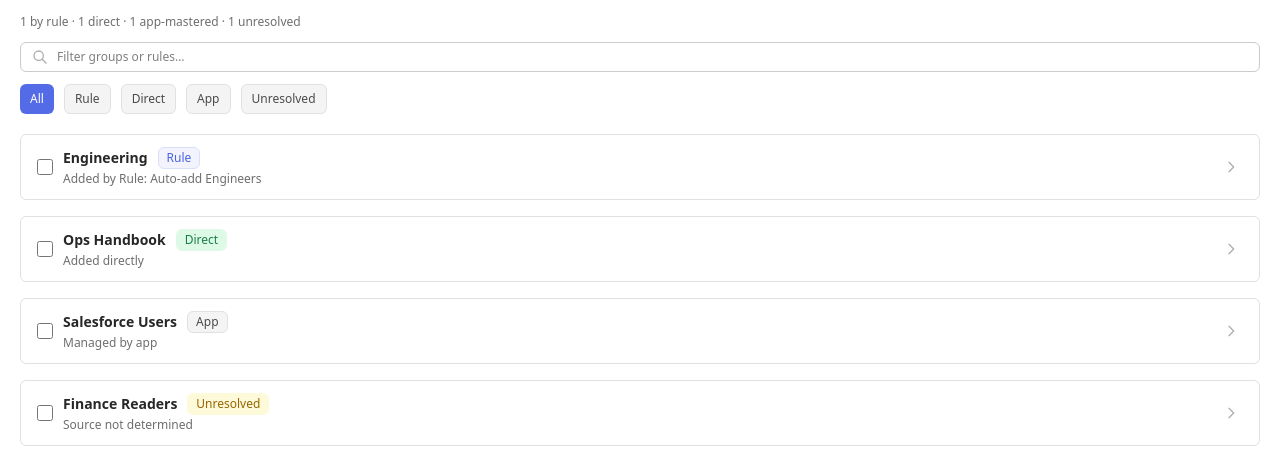
it: GroupMembershipsList — the pane header › offers the way back when a filter matches nothing
In the search field named "Filter group memberships": x=640, y=57 [20,42,1260,72], type "no-such-group"
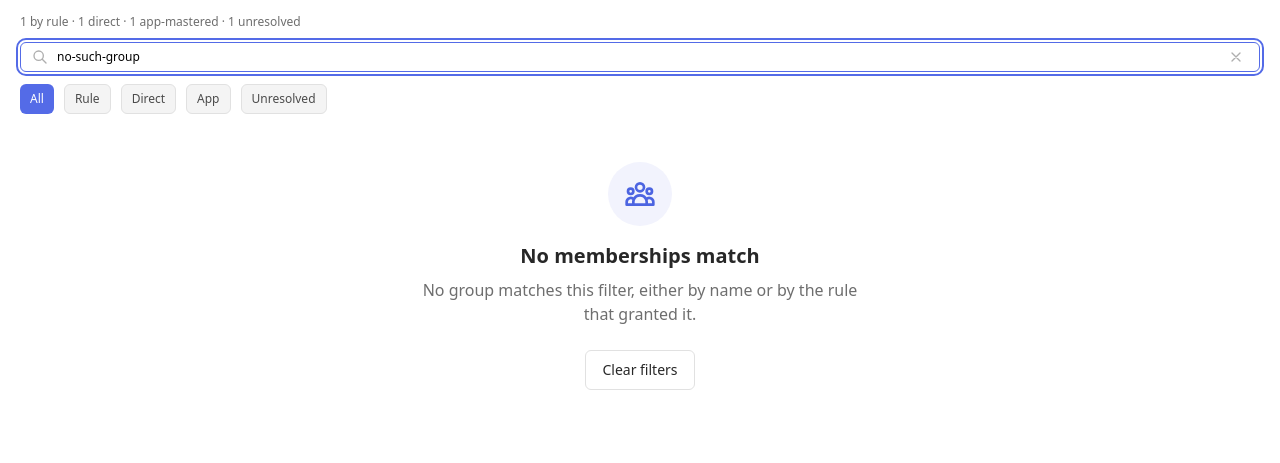
Expected: the heading "No memberships match" is shown, [520,242,760,269]
Click the button named "Clear filters": x=640, y=370 [585,350,694,390]
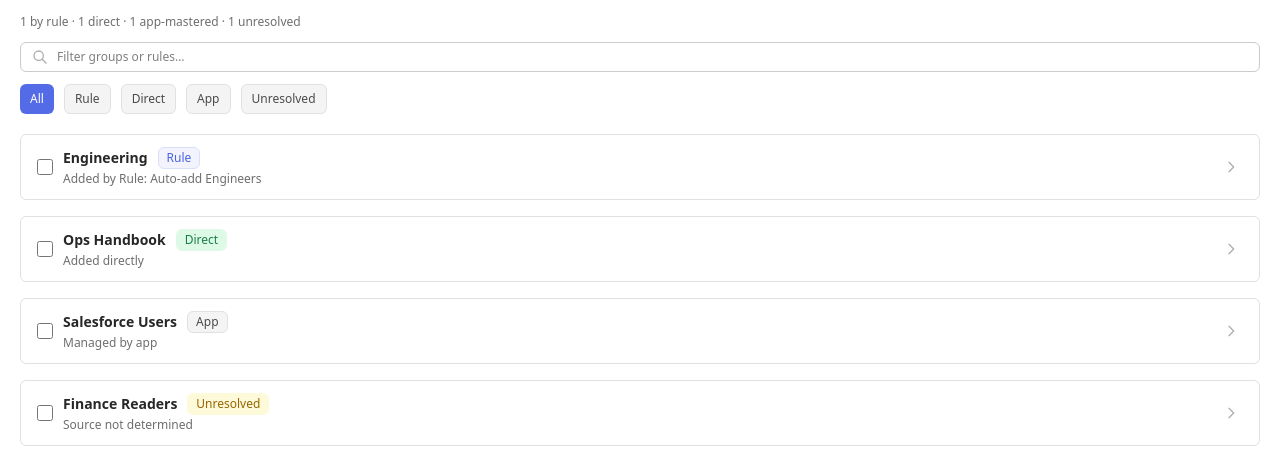
Expected: the heading "Engineering" is shown, [63,148,148,168]
